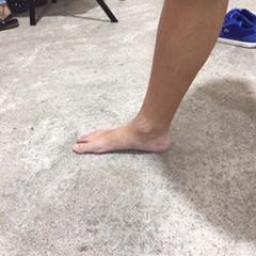Medial View -Right Foot-: (67, 86, 188, 159)
